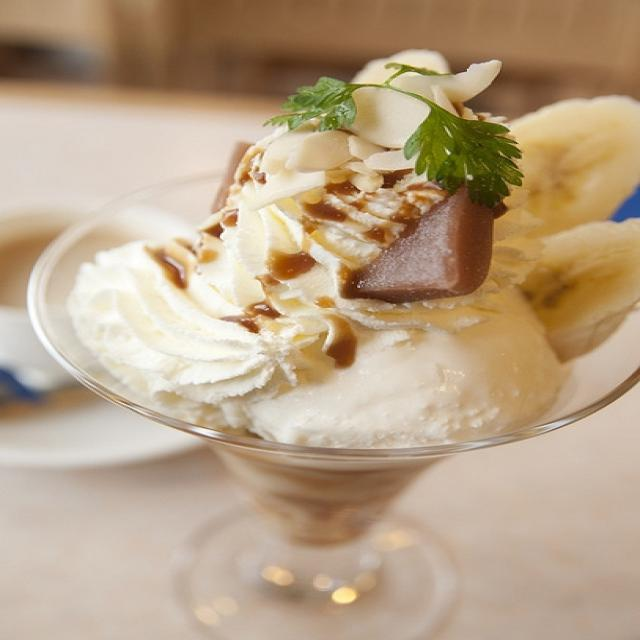蛋糕甜品: (30, 31, 634, 594)
